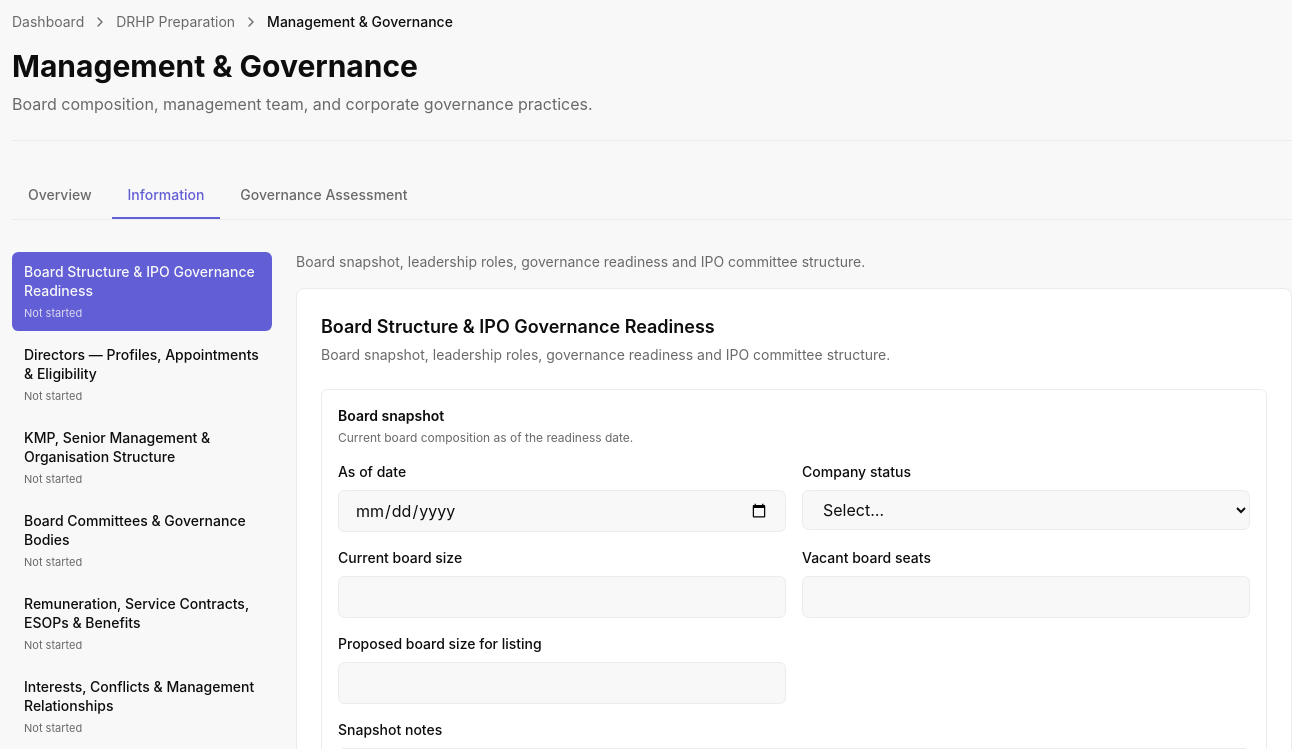
Test: Management & Governance workstream UI (M2 API-backed) › renders Overview and Governance Assessment after load
Click the tab "Overview". click: (60, 196)
box: x1=12 y1=173 x2=108 y2=219
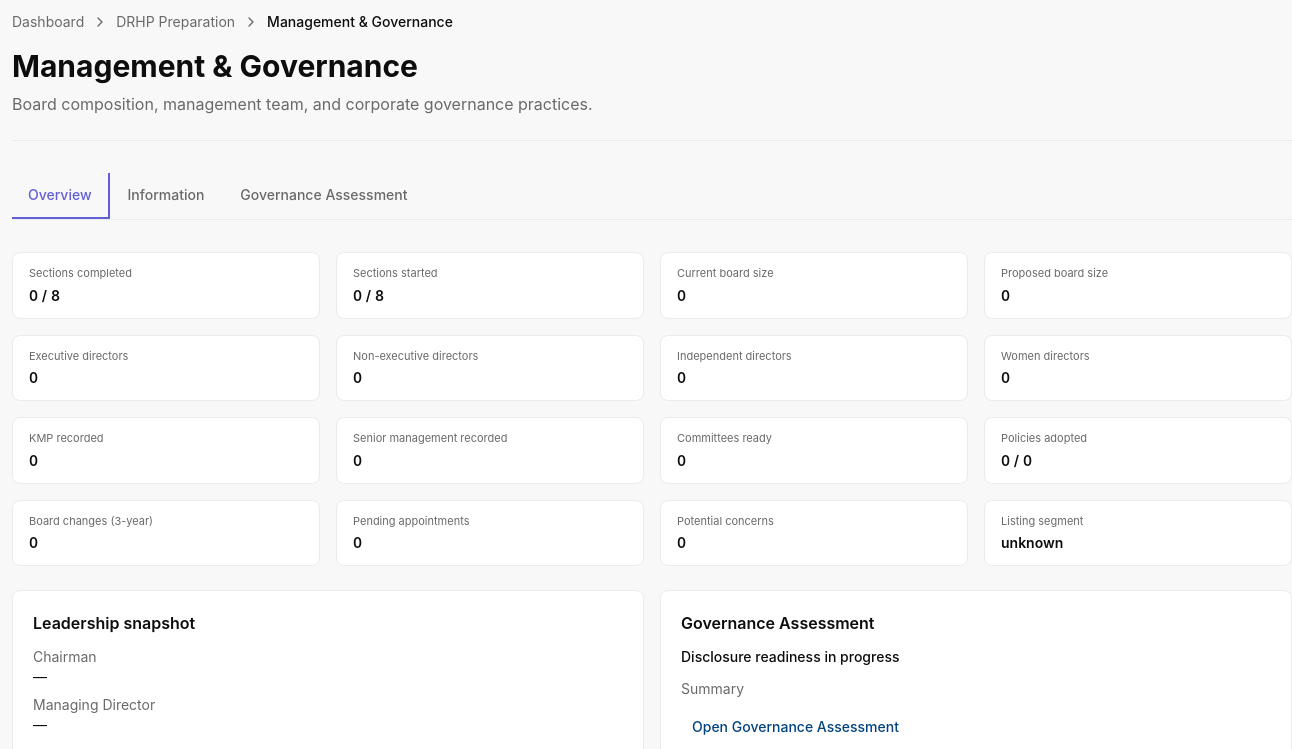
Expected: the text "Sections completed" is shown, x1=29 y1=266 x2=132 y2=280
Click the tab "Governance Assessment". click: (324, 196)
box: x1=224 y1=173 x2=424 y2=219
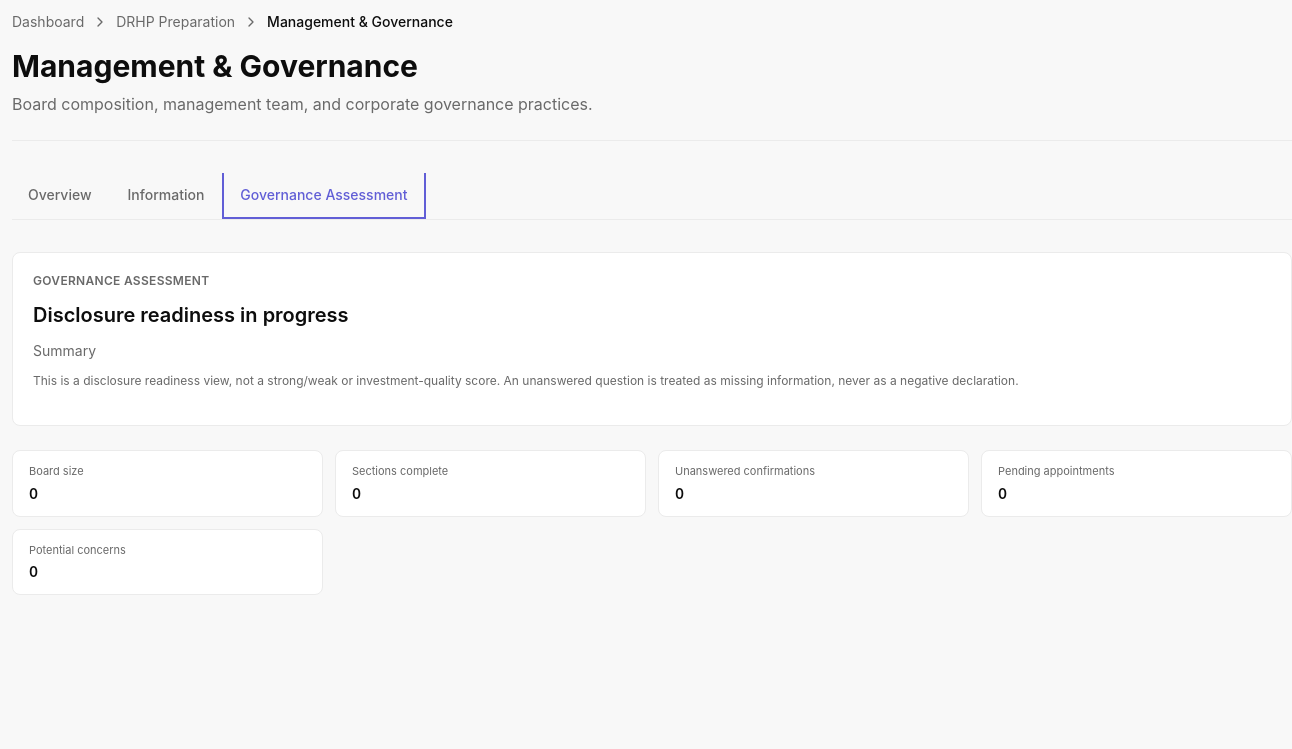
Expected: the text "disclosure readiness view, not a strong/weak or investment-quality score" is shown, x1=33 y1=373 x2=1019 y2=388
